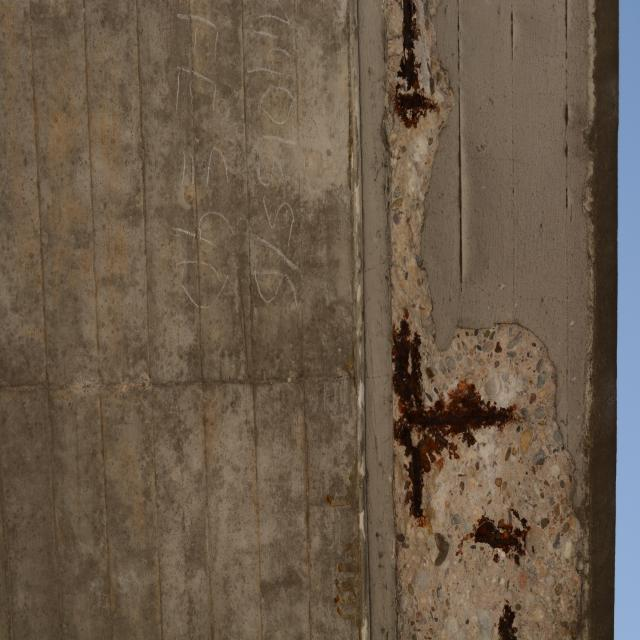corrosion: (384, 296, 550, 640), (381, 0, 449, 139), (319, 478, 369, 630), (337, 344, 365, 402)
